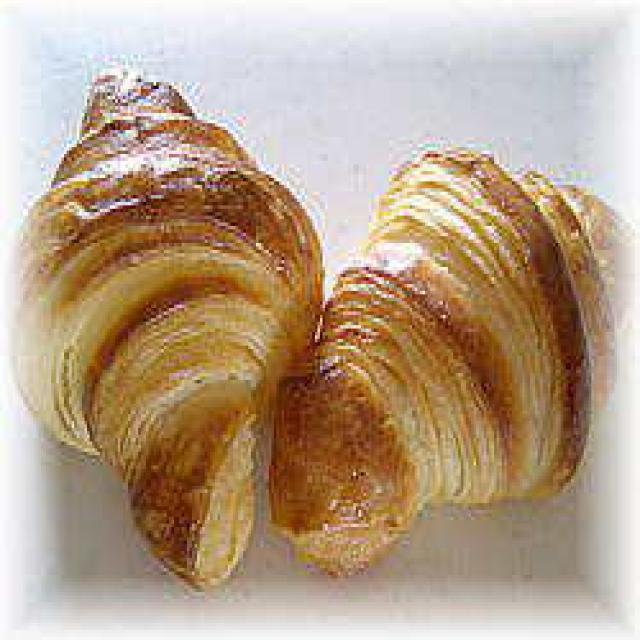Croissant: (22, 19, 313, 598), (289, 147, 640, 552)
